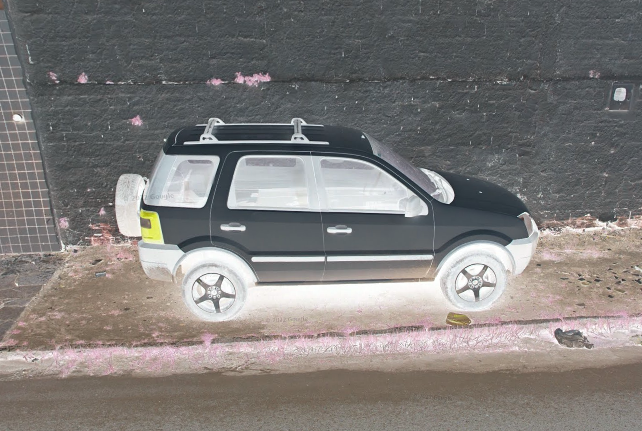car: (109, 113, 544, 323)
